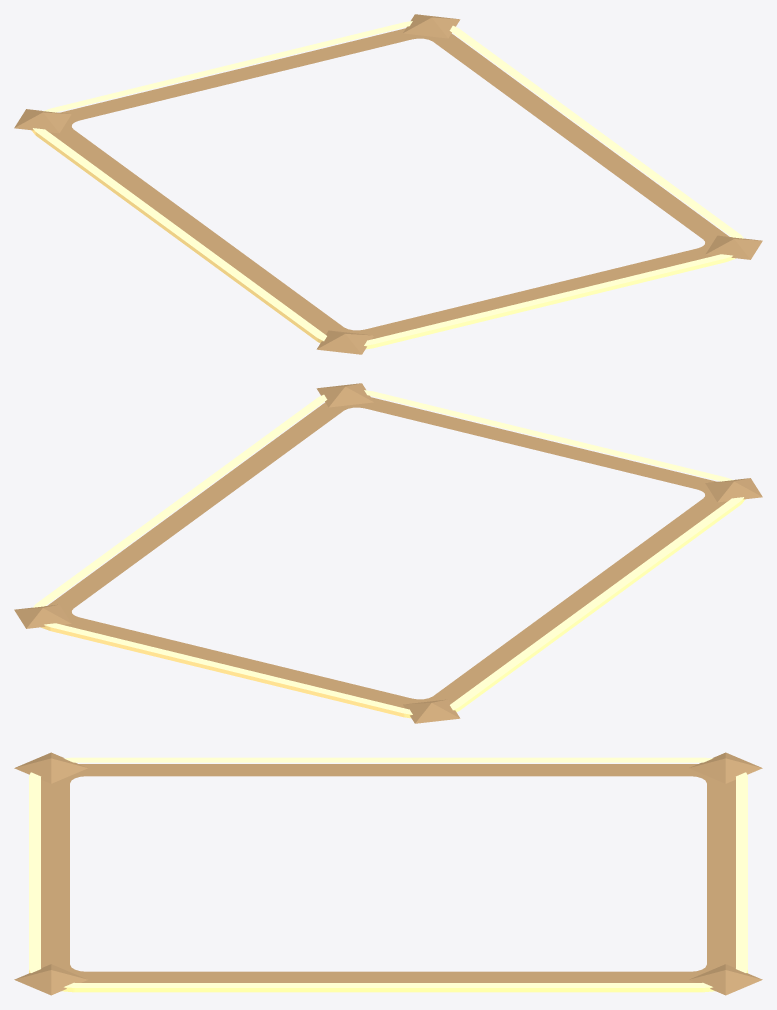
The model's file is ss_plate_u.glb.
The picture shows the model from 3 angles, top to bottom: view 1: azimuth 30°, elevation 25°; view 2: azimuth 150°, elevation 25°; view 3: azimuth 270°, elevation 25°; orthographic projection. The views are drawn at different scales.
Visible parts, largest first — view 1: mwx_plate_g; view 2: mwx_plate_g; view 3: mwx_plate_g.
Boxes of the visible parts, <box> form: mwx_plate_g: <box>14,14,762,354</box>; mwx_plate_g: <box>14,383,762,723</box>; mwx_plate_g: <box>14,752,762,995</box>.
Size of the model in its own units: 8.5 by 0.21 by 11.07.
